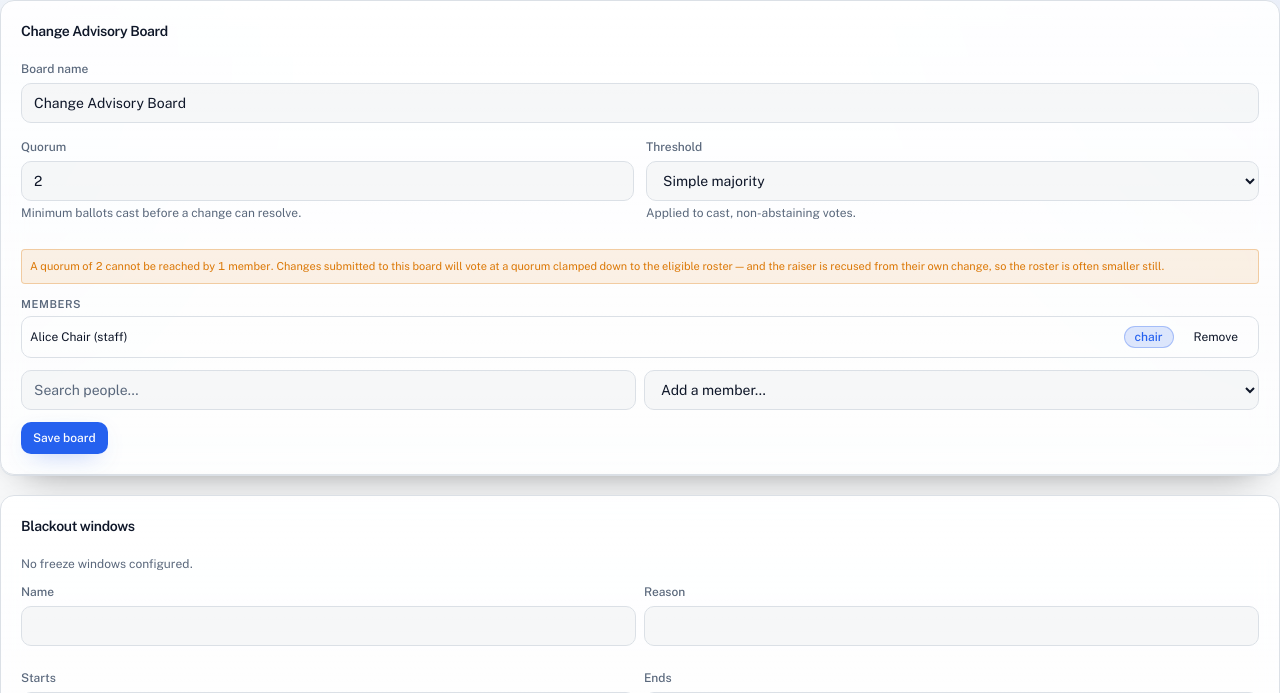
Test: CabBoardSettings › surfaces a refused save rather than looking like it worked
Expected: the field showing "Change Advisory Board" is shown, [21,83,1259,123]
Step 1. Click the button "Save board" → (64, 438), box [21,422,108,454]
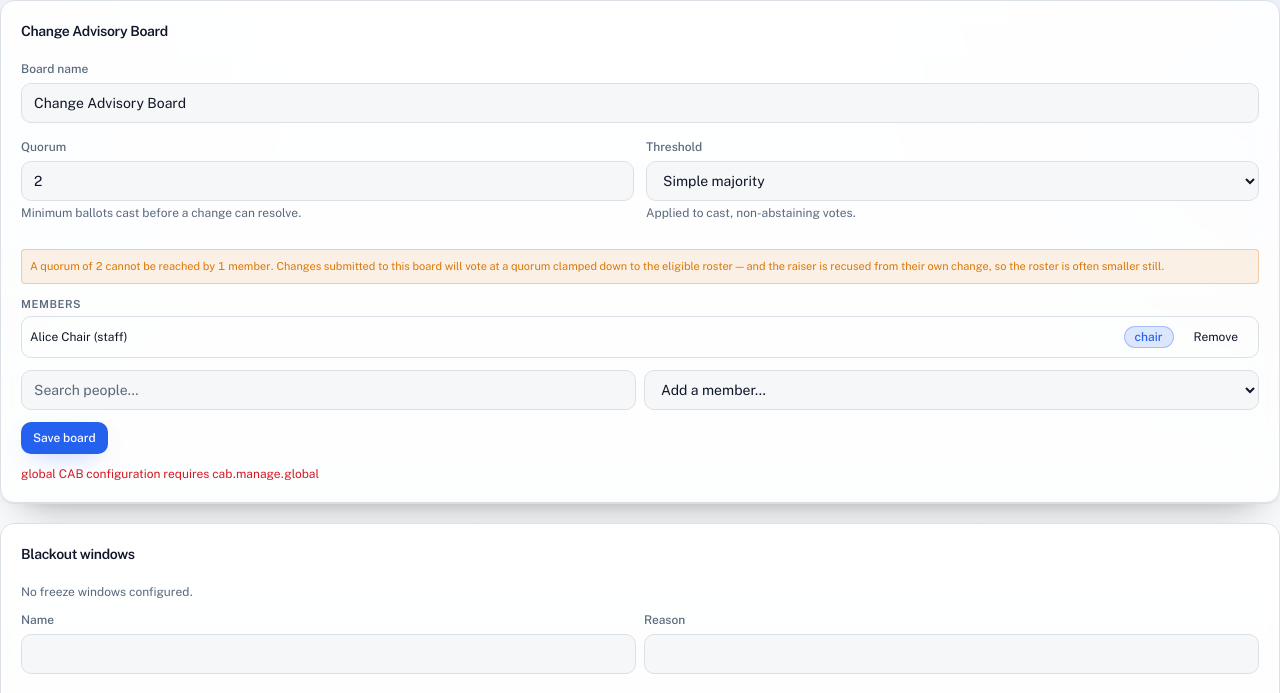
Expected: the text "global CAB configuration requires cab.manage.global" is shown, [21,467,319,481]
